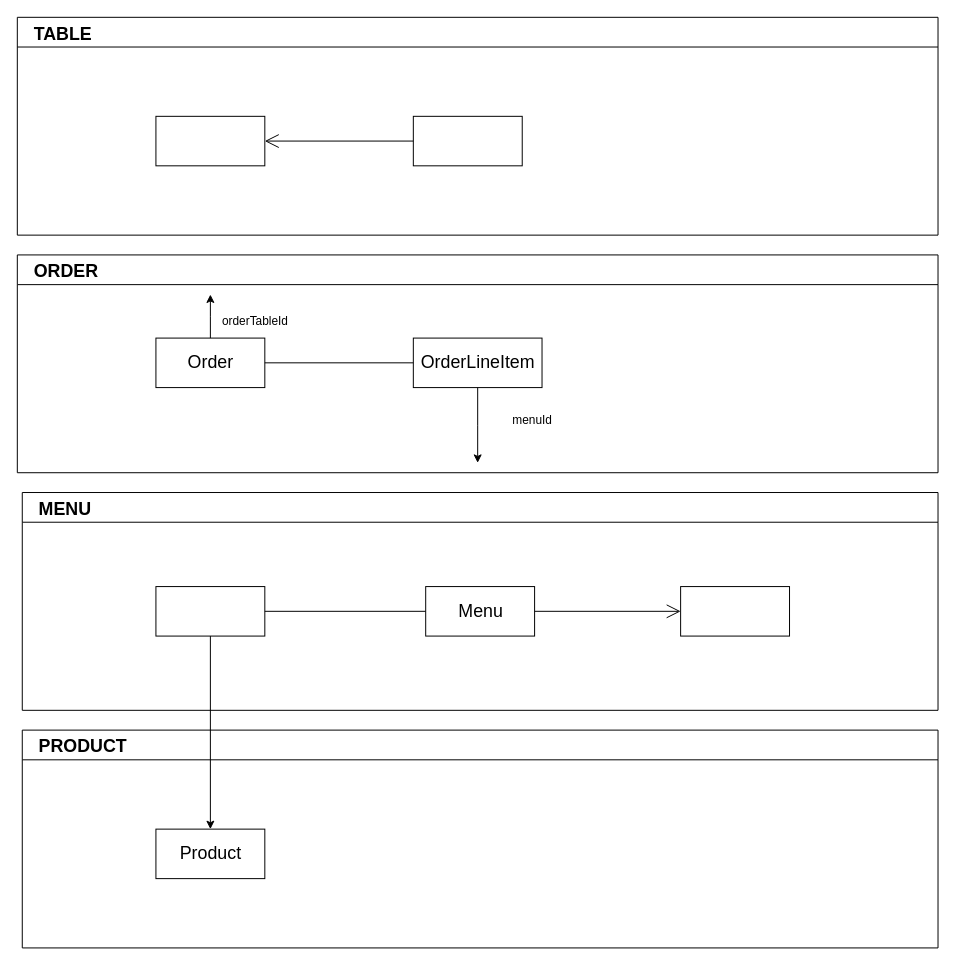
This 955x965 diagram has some shape labels left out. The shapes that lost their labels are listed below. From the top down, each one's centre as x and y in pixels, then its label:
(x=210, y=140): OrderTable
(x=467, y=140): TableGroup
(x=210, y=611): MenuProduct
(x=735, y=611): MenuGroup
